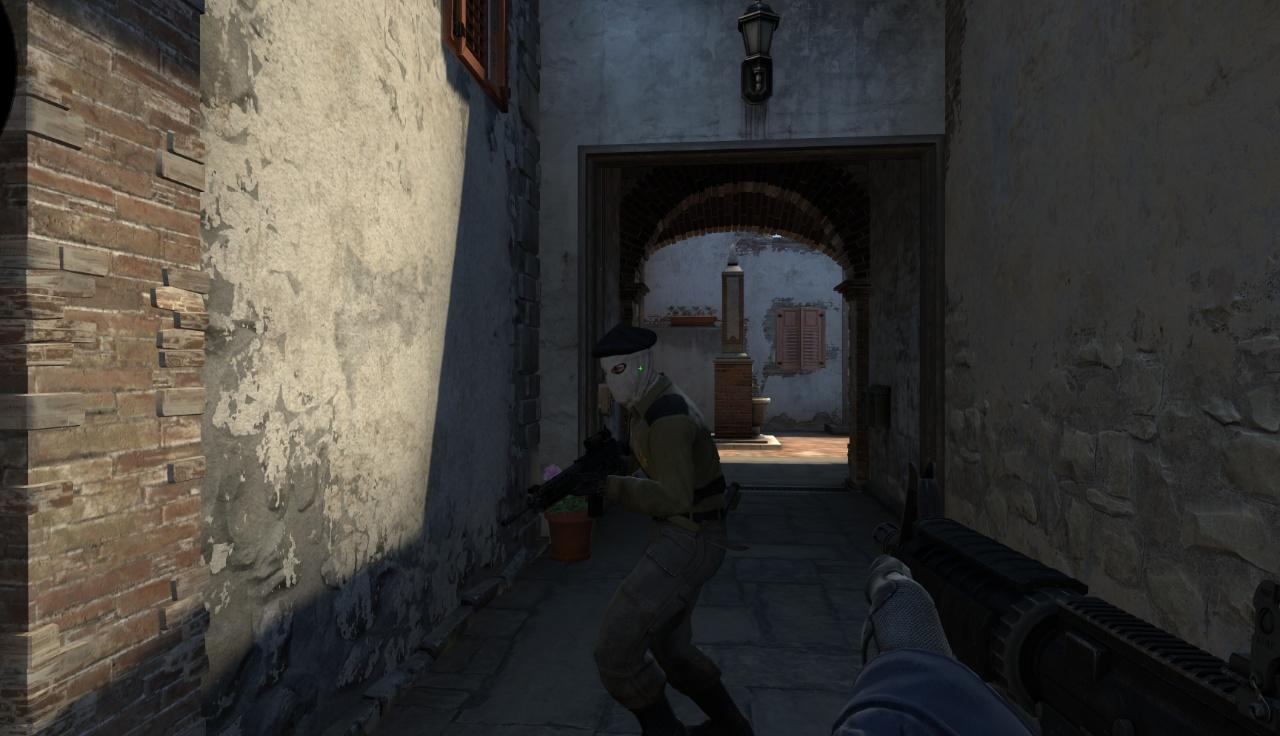rifle: (866, 470, 1280, 736)
tt: (582, 321, 755, 731)
tthead: (596, 326, 653, 407)
